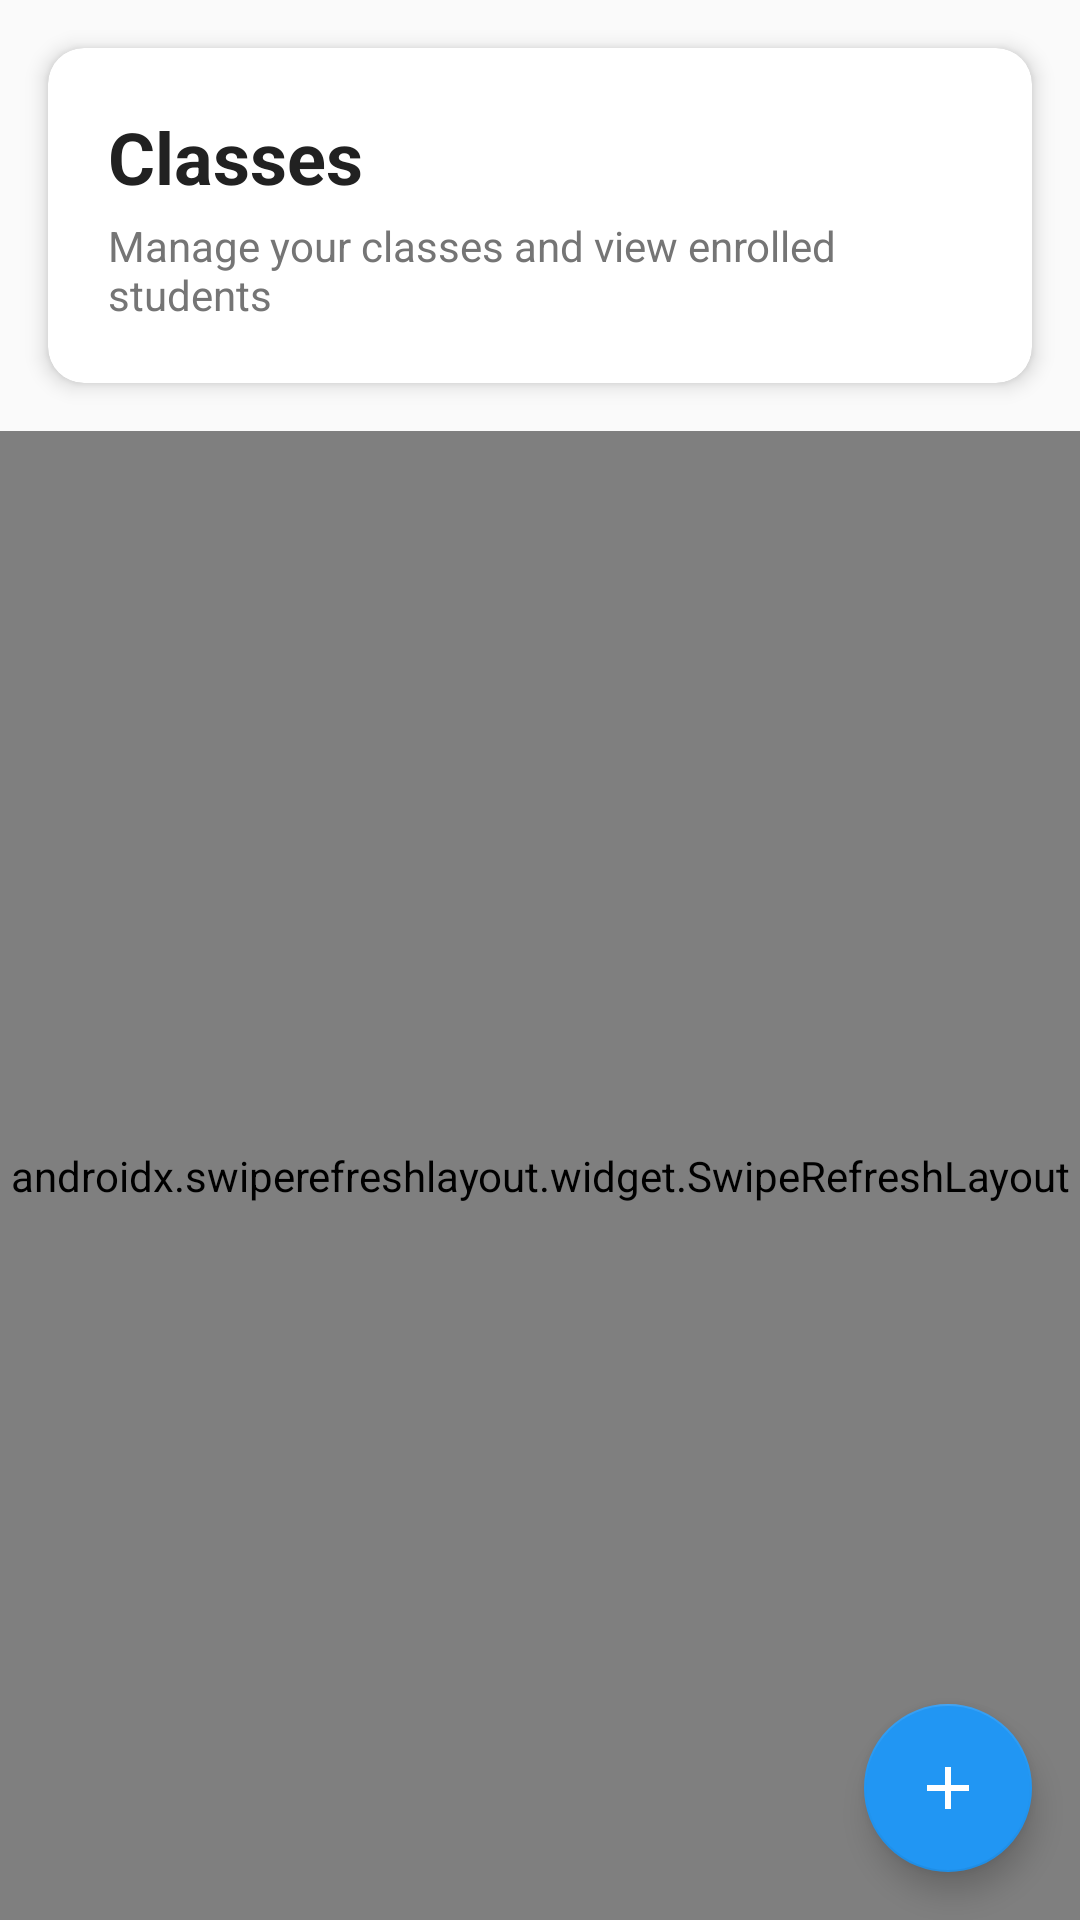

Screen size 1080*1920. Icon name, then its center in pixels as (x=x, y=y):
Add Class: (x=948, y=1788)
